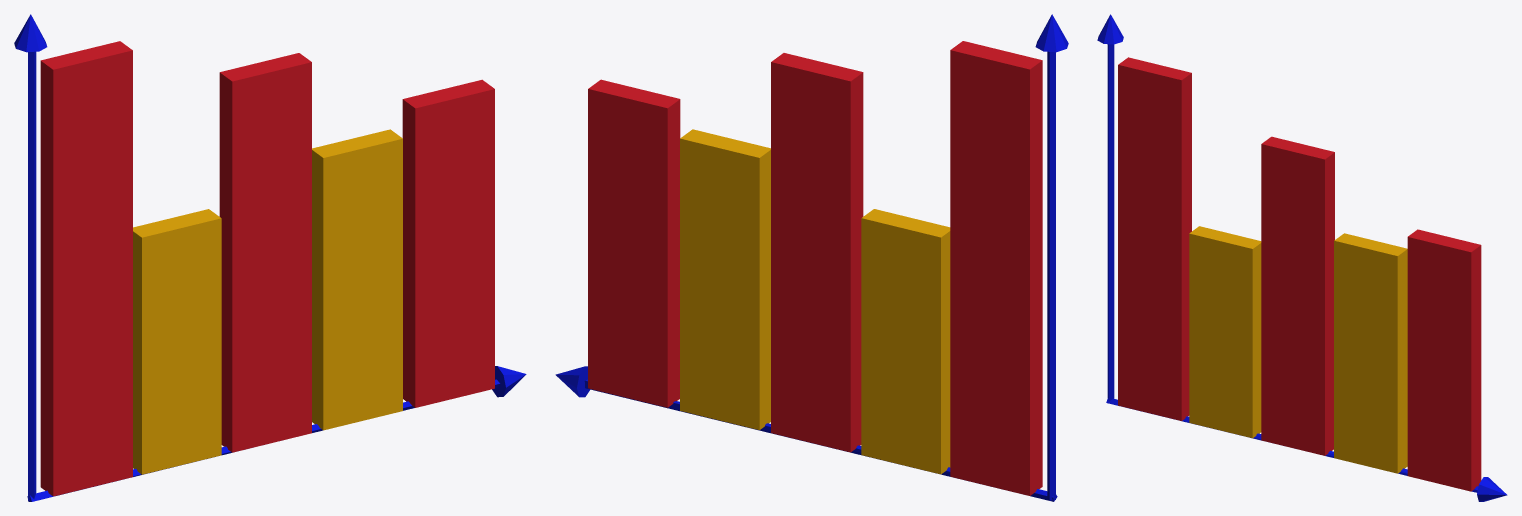
Rendered from graph.fbx.
The picture shows the model from 3 angles, left to right: view 1: azimuth 30°, elevation 25°; view 2: azimuth 150°, elevation 25°; view 3: azimuth 330°, elevation 25°; orthographic projection. The views are drawn at different scales.
Parts seen in each view (by area): view 1: Cylinder.001; view 2: Cylinder.001; view 3: Cylinder.001.
Part boxes in pixels (x1,y1,x2,y2): Cylinder.001: (14, 14, 526, 501); Cylinder.001: (555, 14, 1068, 501); Cylinder.001: (1097, 14, 1507, 501).
Bounding box in the file's own units: 27 × 456 × 423.
